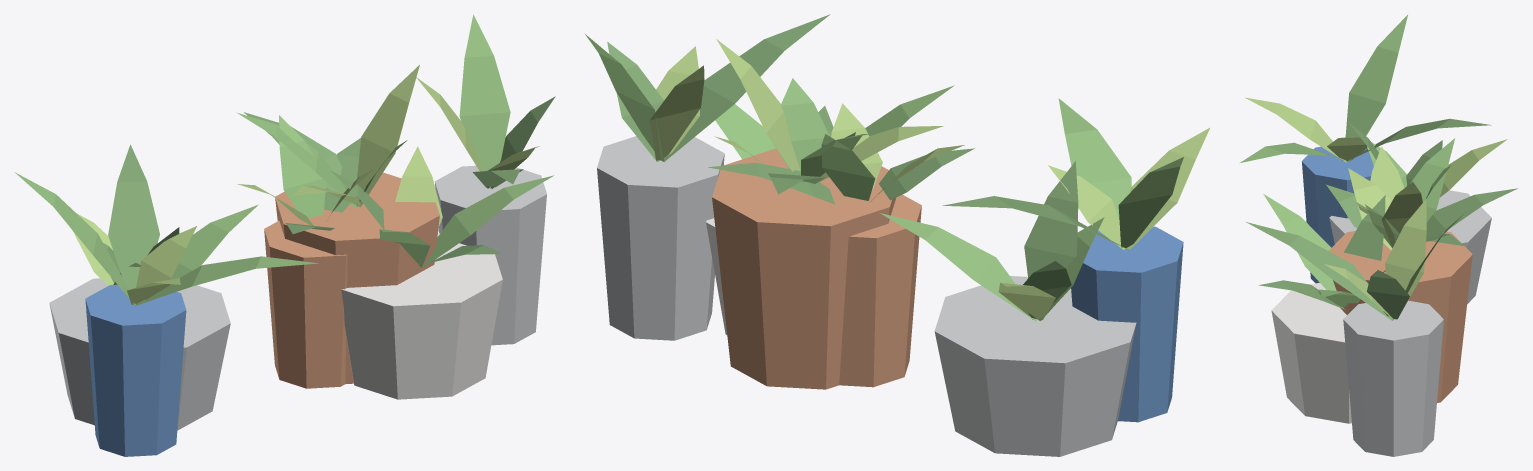
The model's file is fv_pots.glb.
3 renders of one model, left to right at view 1: azimuth 30°, elevation 25°; view 2: azimuth 150°, elevation 25°; view 3: azimuth 270°, elevation 25°, orthographic. The views are drawn at different scales.
Visible parts, largest first — view 1: fv_pots; view 2: fv_pots; view 3: fv_pots.
Boxes of the visible parts, x1,y1,x2,y2 form: fv_pots: (14,14,555,456); fv_pots: (585,14,1209,456); fv_pots: (1239,15,1517,456).
Bounding box in the file's own units: 1.42 × 0.7123 × 0.7555.
